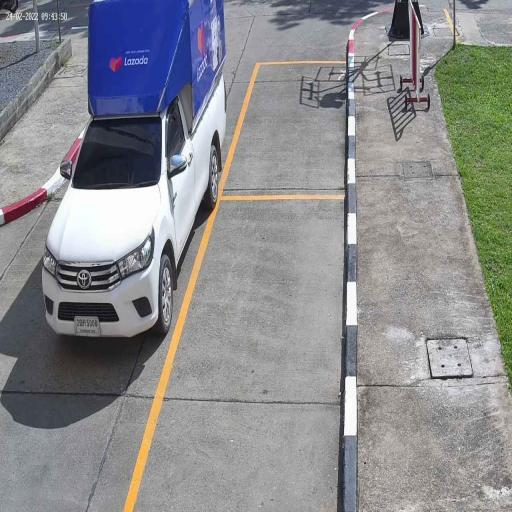car: (39, 0, 229, 341)
